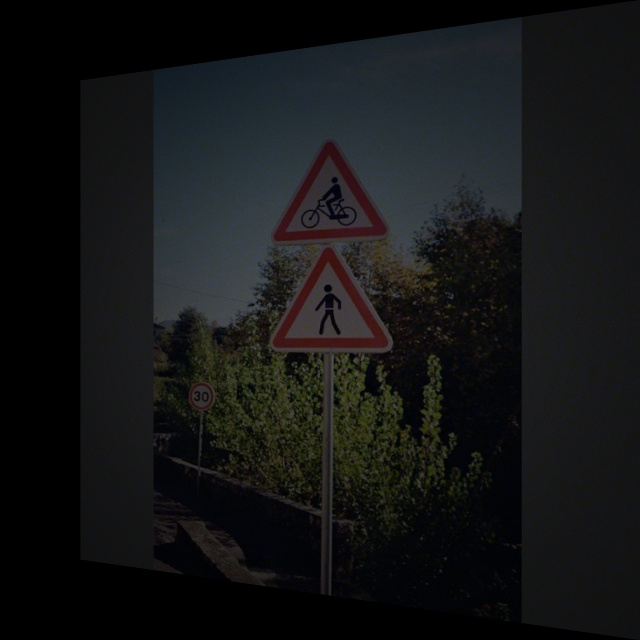Cycle_Crossing: (277, 135, 393, 246)
